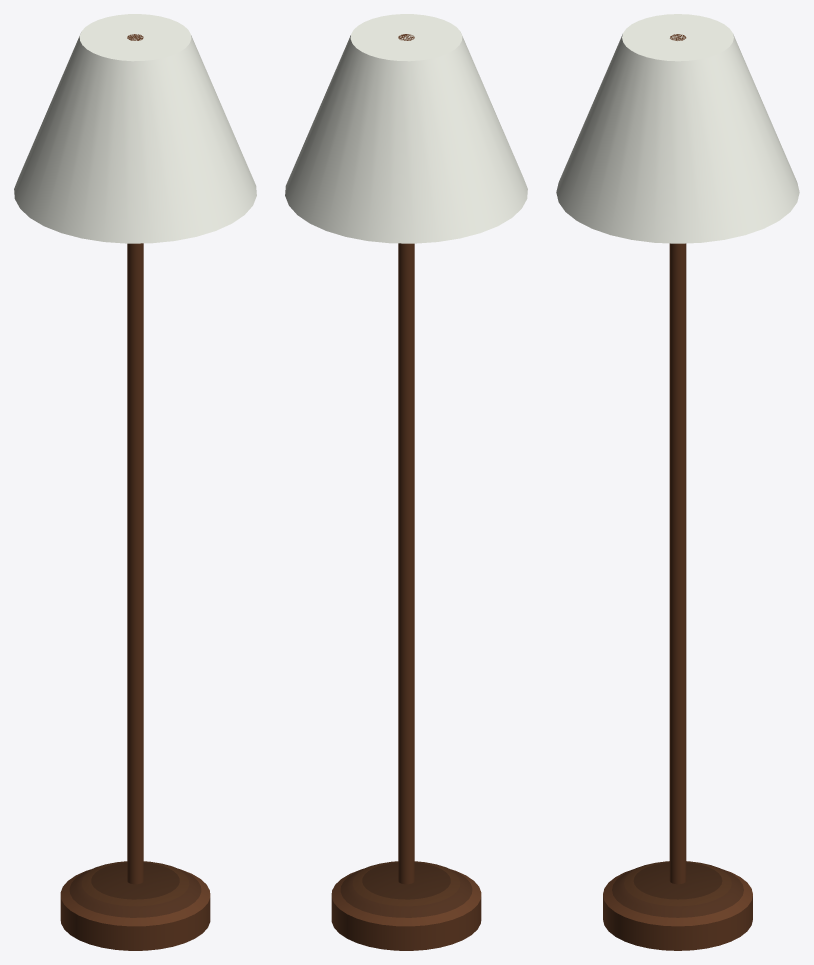
Rendered from Abajur.fbx.
3 renders of one model, left to right at view 1: azimuth 30°, elevation 25°; view 2: azimuth 150°, elevation 25°; view 3: azimuth 270°, elevation 25°, orthographic.
Parts seen in each view (by area): view 1: Cylinder; view 2: Cylinder; view 3: Cylinder.
Boxes of the visible parts, x1,y1,x2,y2 form: Cylinder: [14, 14, 256, 950]; Cylinder: [285, 14, 527, 950]; Cylinder: [556, 14, 799, 950].
Bounding box in the file's own units: 200 × 799 × 200.
1 material, 1 textured.
